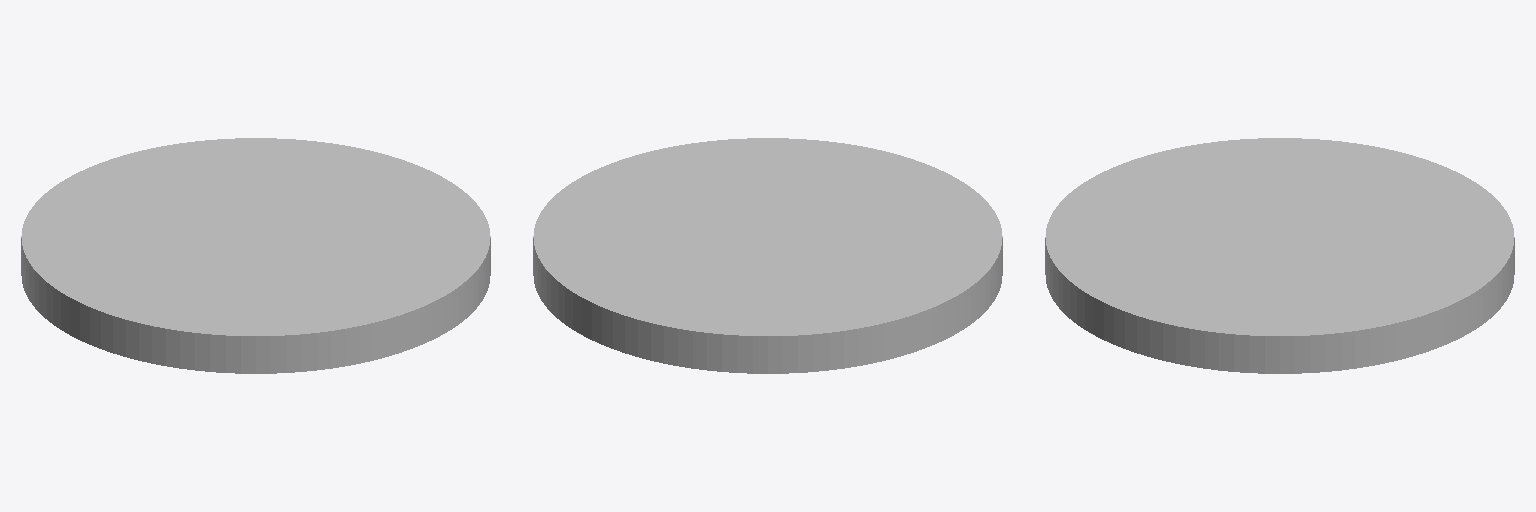
3 views of the same model, side by side, from view 1: azimuth 30°, elevation 25°; view 2: azimuth 150°, elevation 25°; view 3: azimuth 270°, elevation 25° (orthographic).
Visible parts, largest first — view 1: _circle_CUCurve.023; view 2: _circle_CUCurve.023; view 3: _circle_CUCurve.023.
Part boxes in pixels (x1,y1,x2,y2): _circle_CUCurve.023: (21, 138, 490, 373); _circle_CUCurve.023: (533, 138, 1002, 373); _circle_CUCurve.023: (1045, 138, 1514, 373).
Size of the model in its own units: 0.5645 by 0.05 by 0.5643.